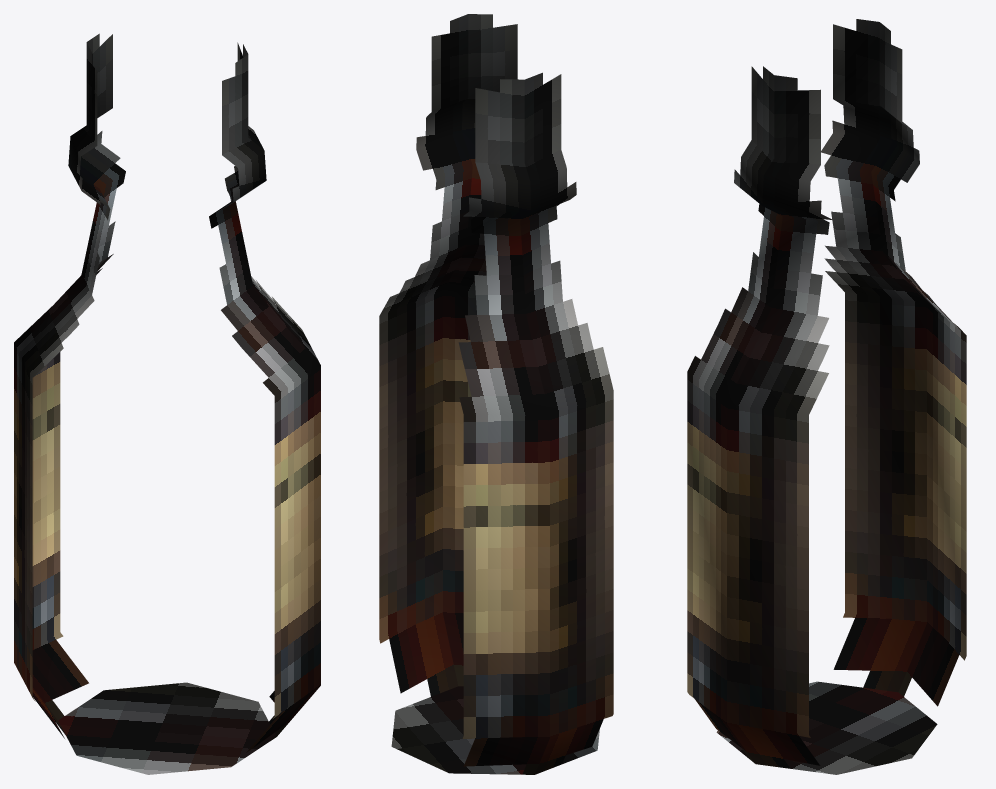
File: DoubleGreedyHammer.fbx
3 renders of one model, left to right at view 1: azimuth 30°, elevation 25°; view 2: azimuth 150°, elevation 25°; view 3: azimuth 270°, elevation 25°, orthographic.
Parts seen in each view (by area): view 1: Item_DoubleGreedyHammer; view 2: Item_DoubleGreedyHammer; view 3: Item_DoubleGreedyHammer.
Part boxes in pixels (x1,y1,x2,y2): Item_DoubleGreedyHammer: [14, 33, 320, 774]; Item_DoubleGreedyHammer: [379, 14, 613, 774]; Item_DoubleGreedyHammer: [687, 19, 966, 774].
Bounding box in the file's own units: 0.2092 × 0.5063 × 0.2092.
1 material, 1 textured.
